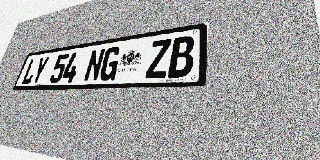4: (60, 52, 82, 83)
5: (48, 53, 70, 83)
B: (168, 35, 195, 78)
G: (98, 46, 122, 81)
L: (20, 58, 40, 85)
N: (83, 48, 106, 82)
Y: (30, 56, 50, 84)
Z: (145, 38, 172, 79)
